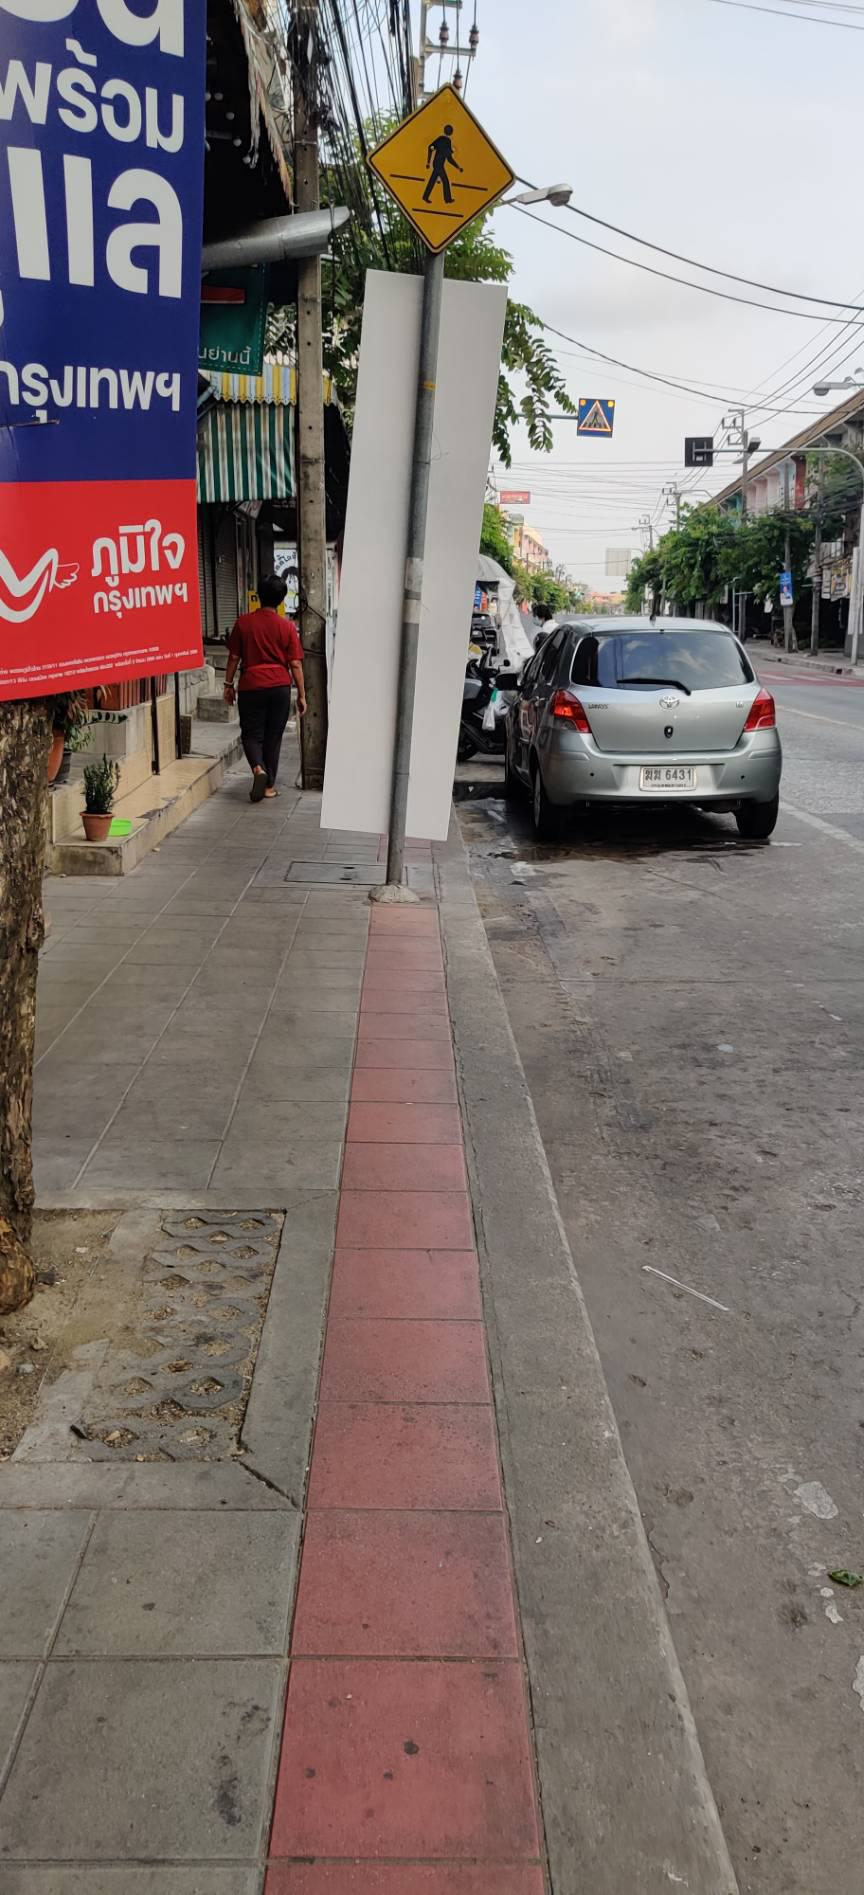Banner: (0, 0, 221, 697)
